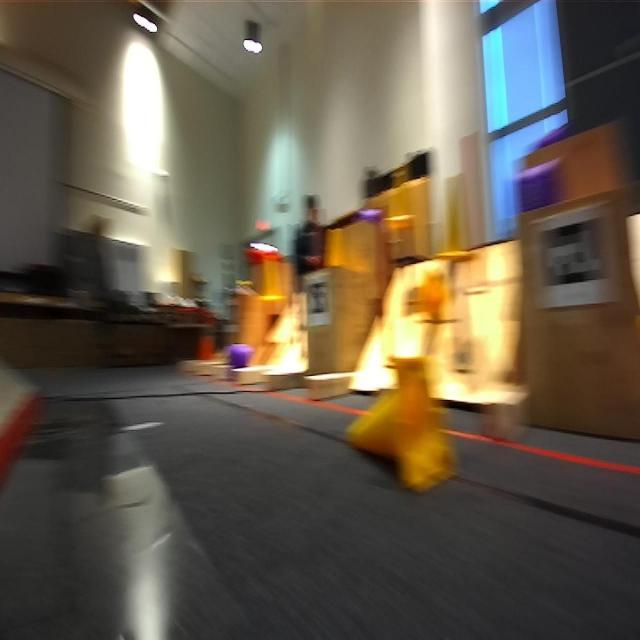frc_cone: (343, 348, 457, 486), (432, 170, 474, 262), (381, 161, 412, 235), (421, 270, 452, 332), (258, 254, 288, 307), (325, 228, 348, 270)
frc_cube: (520, 160, 558, 214), (536, 119, 572, 149), (356, 206, 386, 223), (228, 343, 250, 365)
